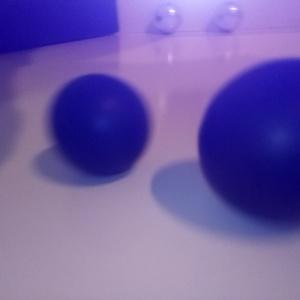alive_ball: (153, 4, 183, 33), (213, 2, 242, 31)
dead_ball: (198, 56, 300, 223), (50, 74, 149, 176)
